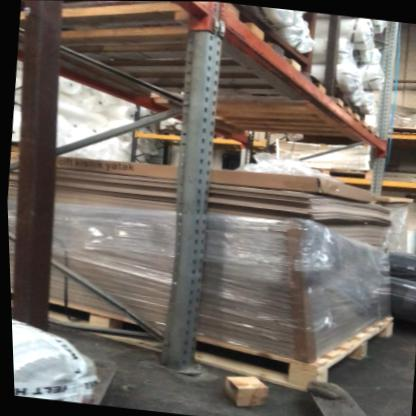vertical_damage: (160, 324, 221, 381)
